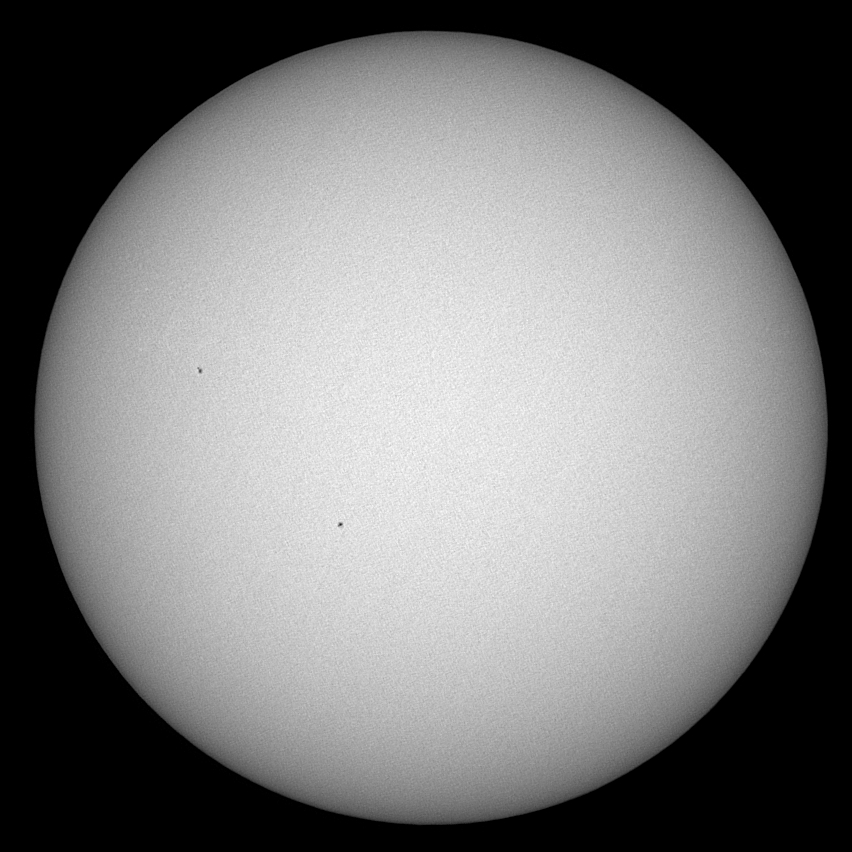sunspot: (333, 516, 349, 533), (195, 363, 207, 375)
